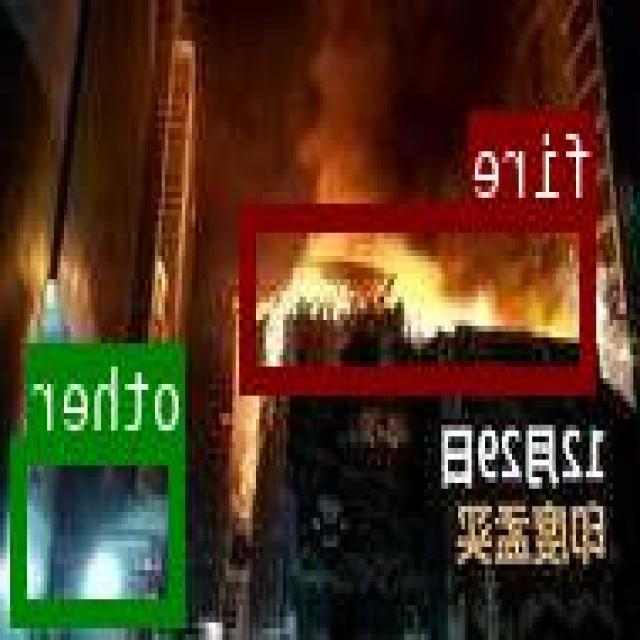fire: (243, 203, 598, 386)
other: (13, 435, 188, 620)
